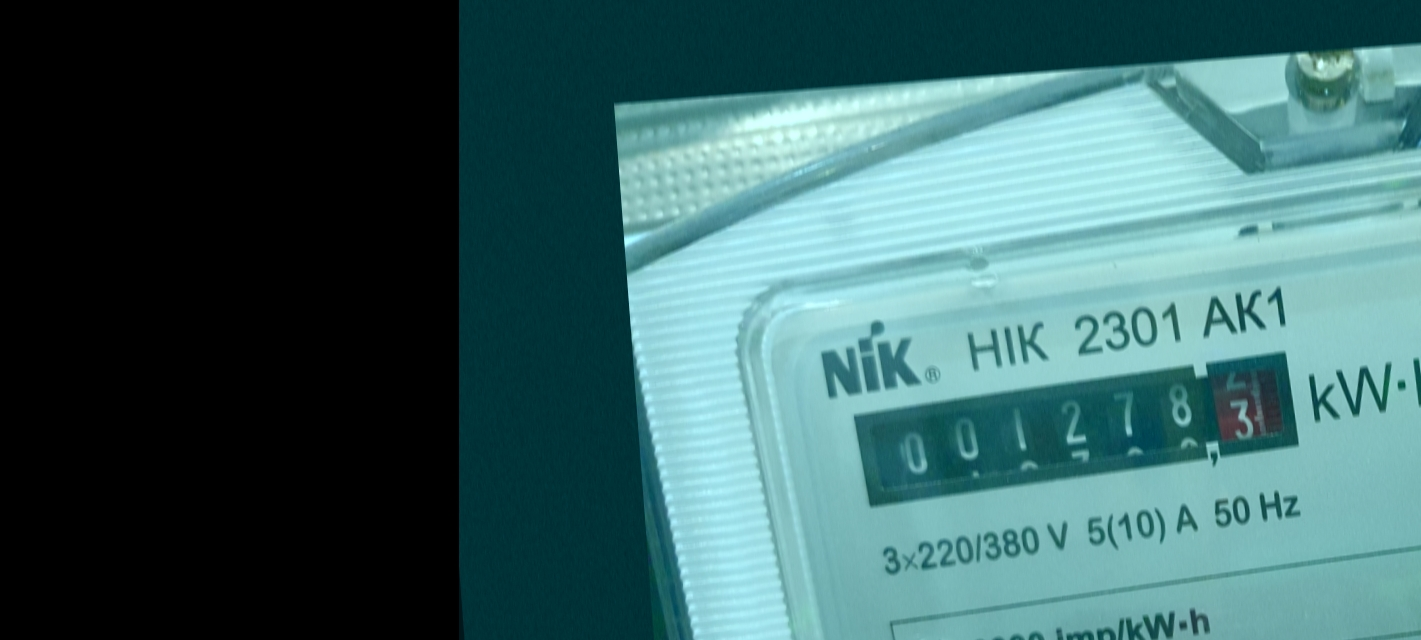0: (904, 426, 935, 476), (956, 414, 984, 462)
1: (1014, 403, 1034, 453)
2: (1061, 396, 1092, 445), (1225, 369, 1252, 392)
3: (1230, 394, 1260, 439)
7: (1116, 388, 1141, 438)
8: (1169, 380, 1198, 429)
screen: (835, 339, 1322, 517)
